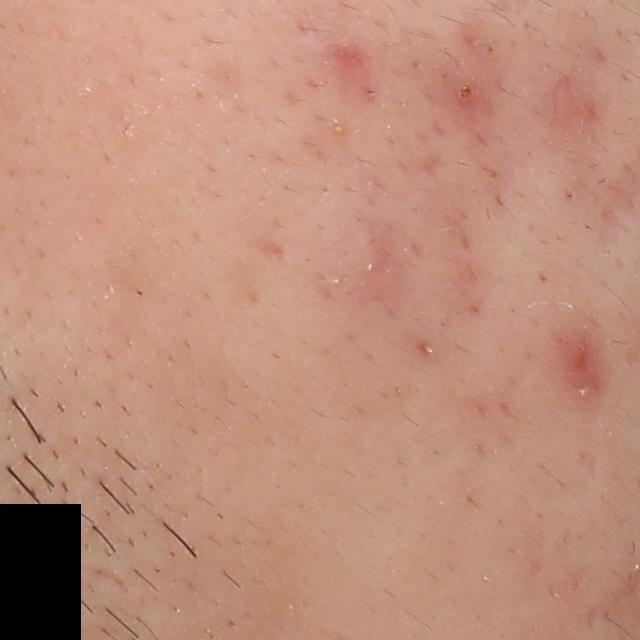atrophic_scar: (413, 340, 439, 360)
papule: (565, 338, 600, 379)
